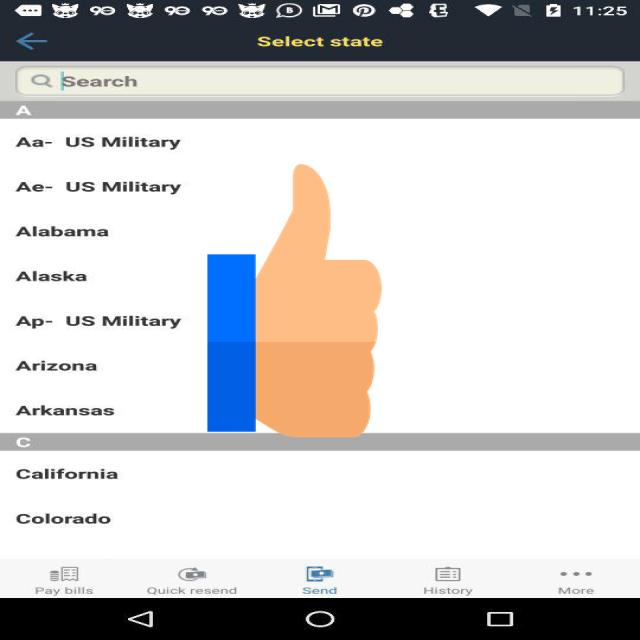privacy zuckering: (208, 157, 382, 444)
